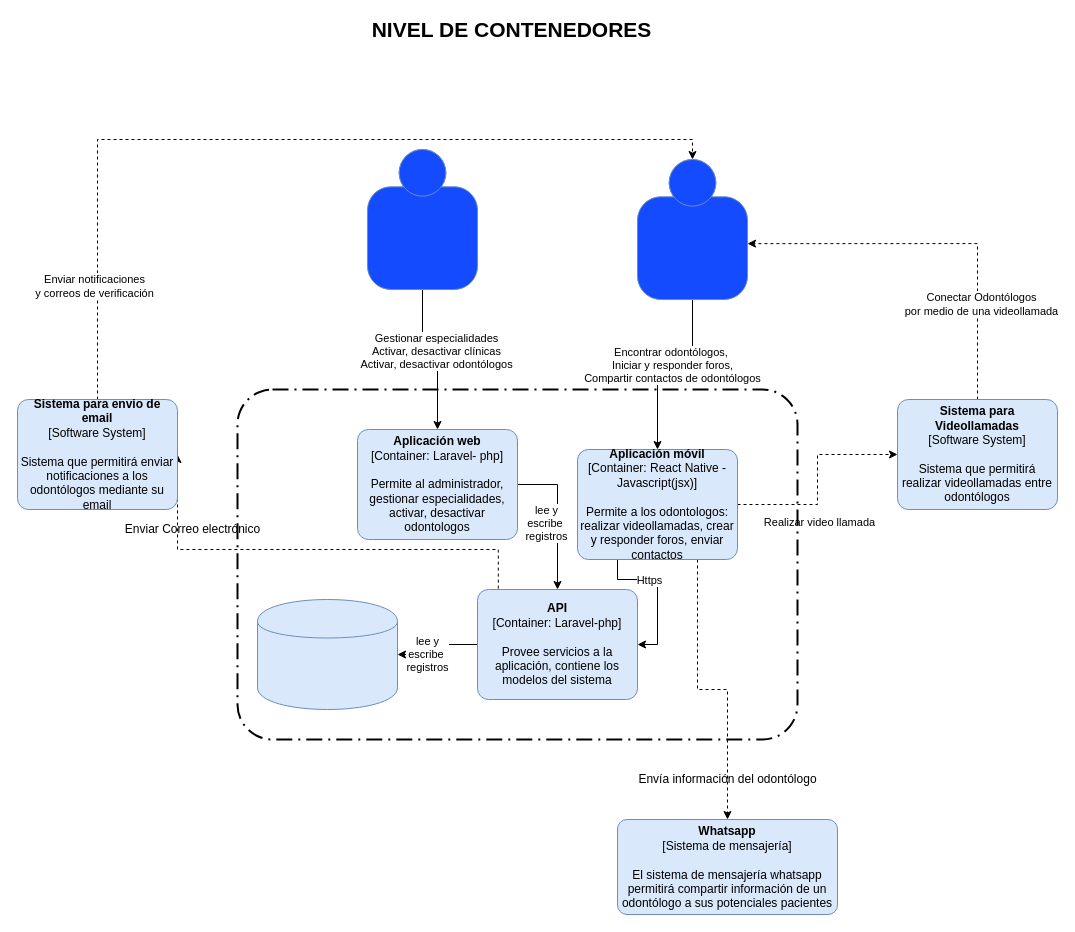
Image size: 1075x932. Some labels were removed from this diagram. The centre of each missing label's shape, as x and y in pixels:
Administrador Persona designada a gestionar el sistema.: (422,219)
Database [Container: mySQL] Almacenamiento de los usuarios de la aplicación: (327,654)
Odontólogo Profesional en odontología que podrá acceder a la aplicación: (692,229)
